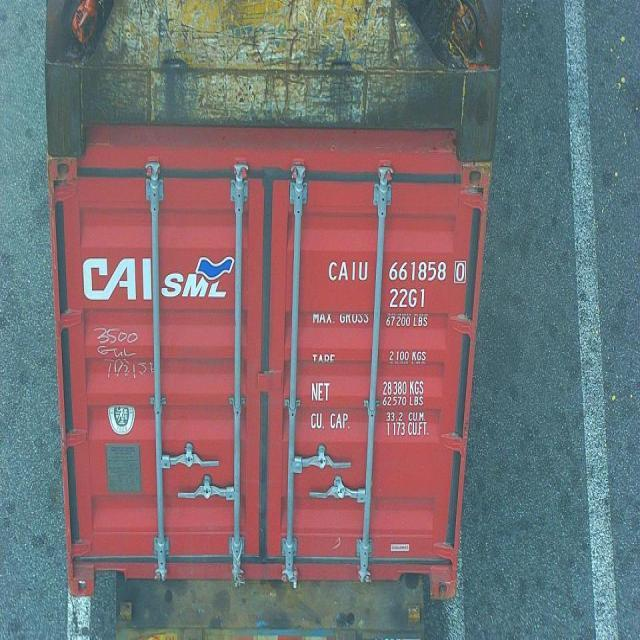ISO: (388, 288, 426, 308)
container_number: (326, 256, 470, 286)
